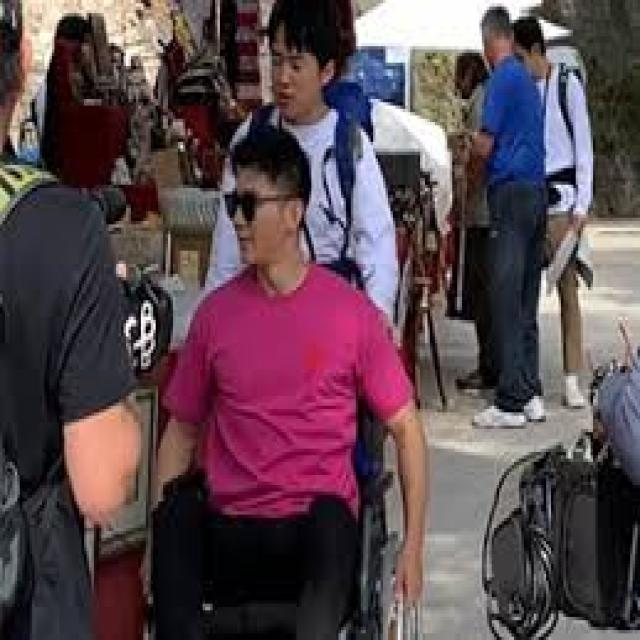wheelchairs: (148, 277, 408, 637)
